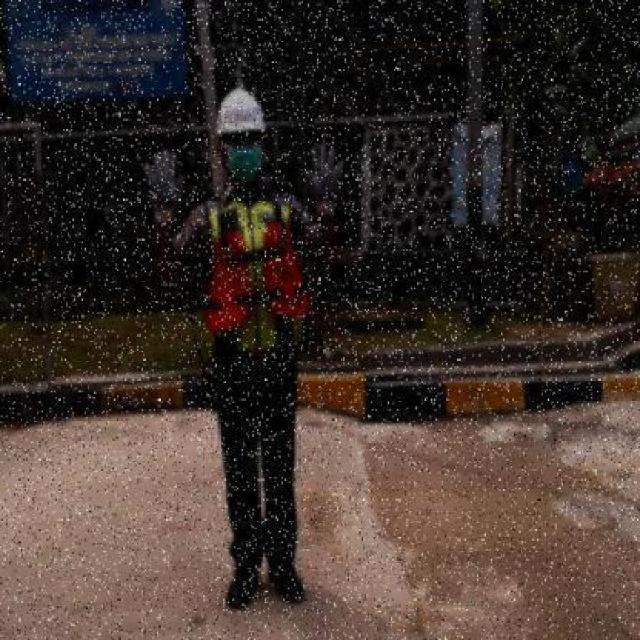Boots: (264, 564, 308, 604), (226, 566, 262, 611)
Gloves: (141, 148, 188, 228), (303, 138, 346, 217)
Helmet: (214, 85, 268, 133), (267, 212, 268, 215)
Mask: (225, 145, 262, 183)
Protective Glasses: (224, 132, 262, 150)
Vest: (202, 218, 310, 334)
